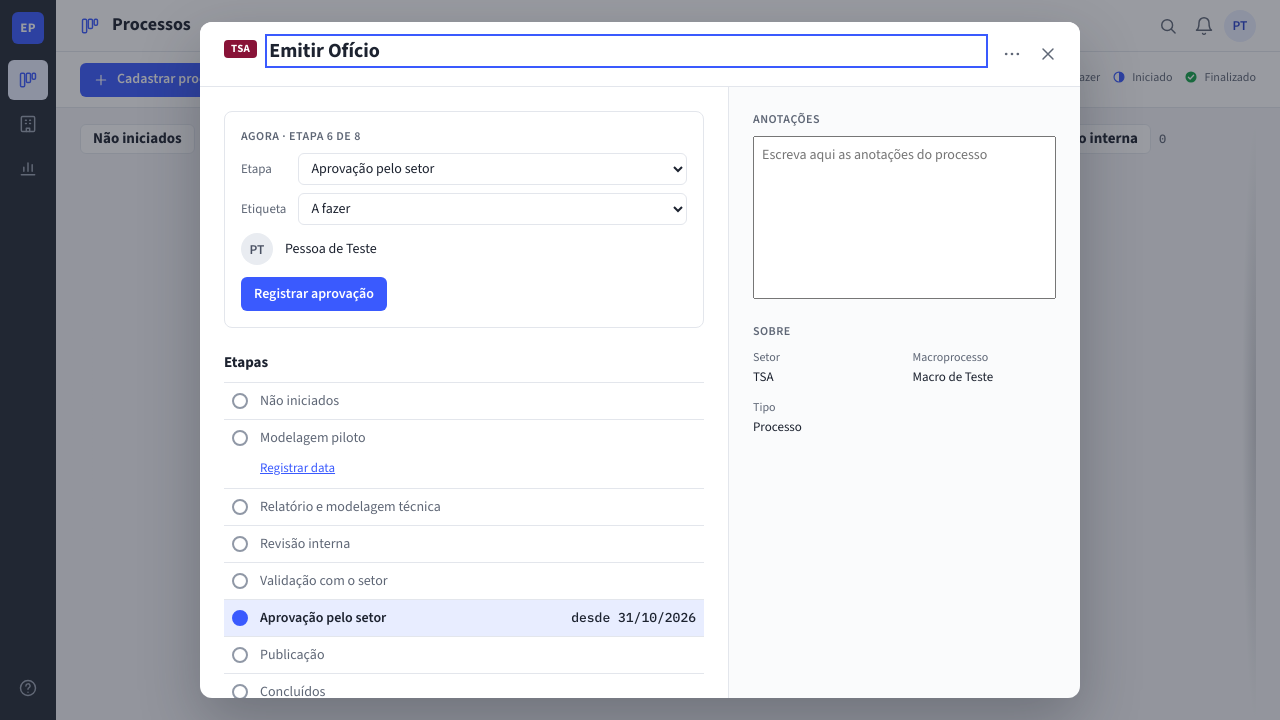
Test: as recusas do link e da data no futuro mostram a frase, mantendo o preenchido
The image size is (1280, 720).
Click the button "Registrar aprovação" at [314, 294], box [241,277,387,311]
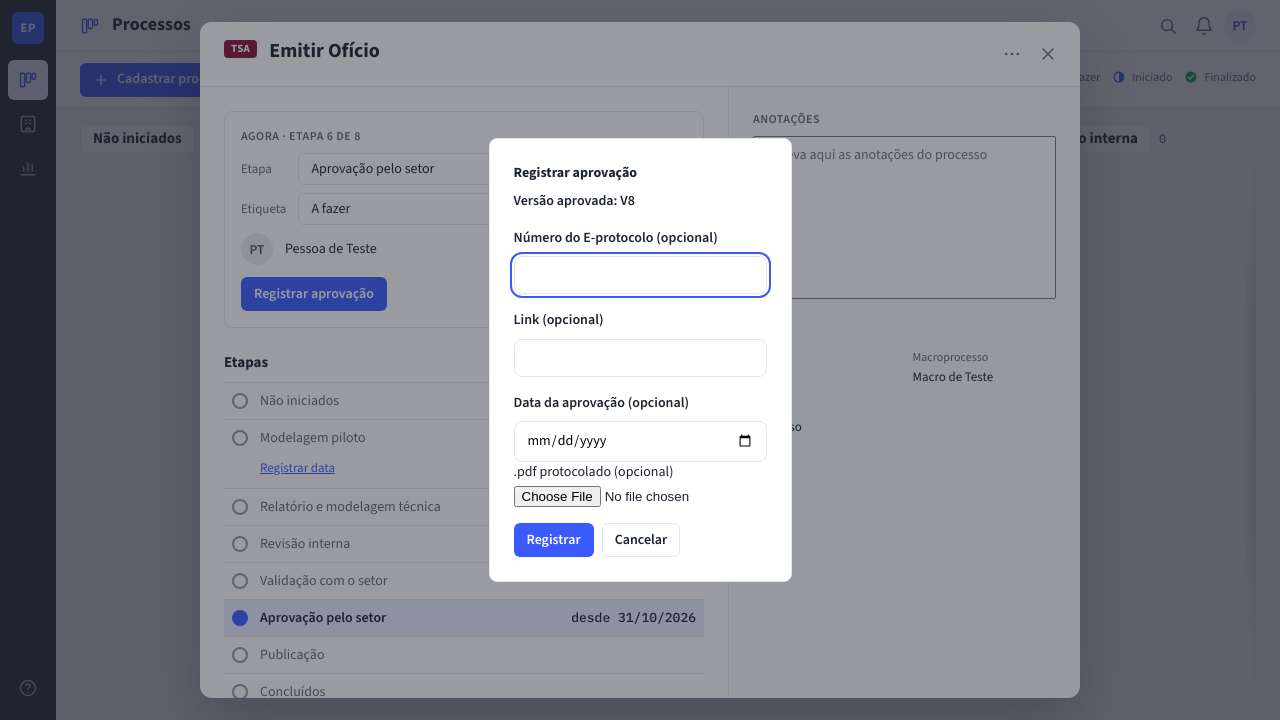
Type "PROT-3" into the field labelled "Número do E-protocolo (opcional)" at [640, 275], box [514,256,766,294]
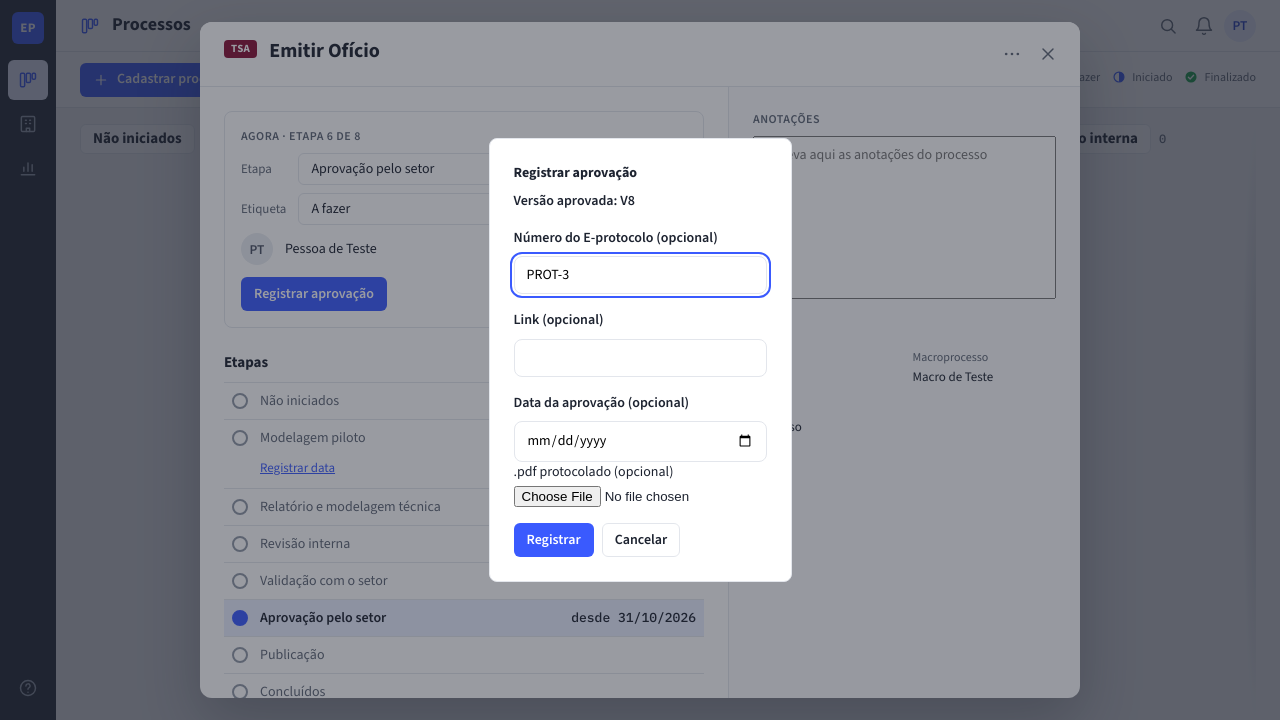
Type "ftp://x.example/a" into the field labelled "Link (opcional)" at [640, 358], box [514,339,766,377]
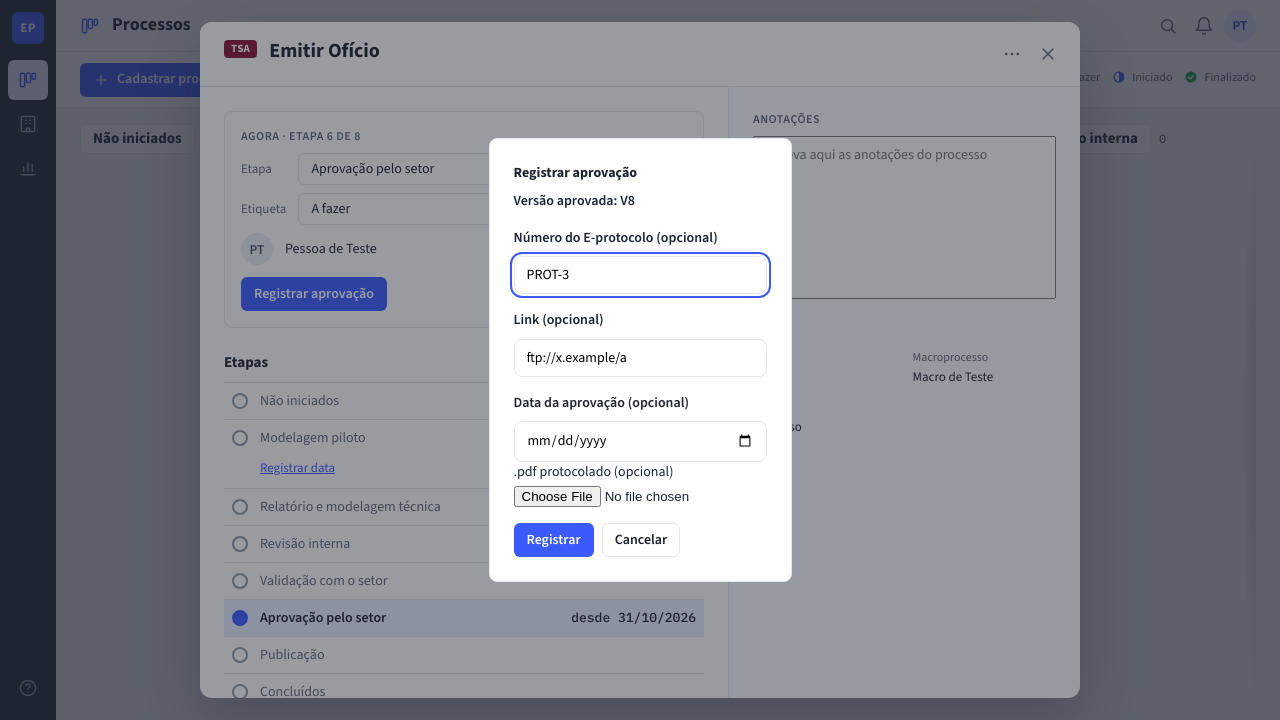
Click the button "Registrar" at [554, 540], box [514,523,594,557]
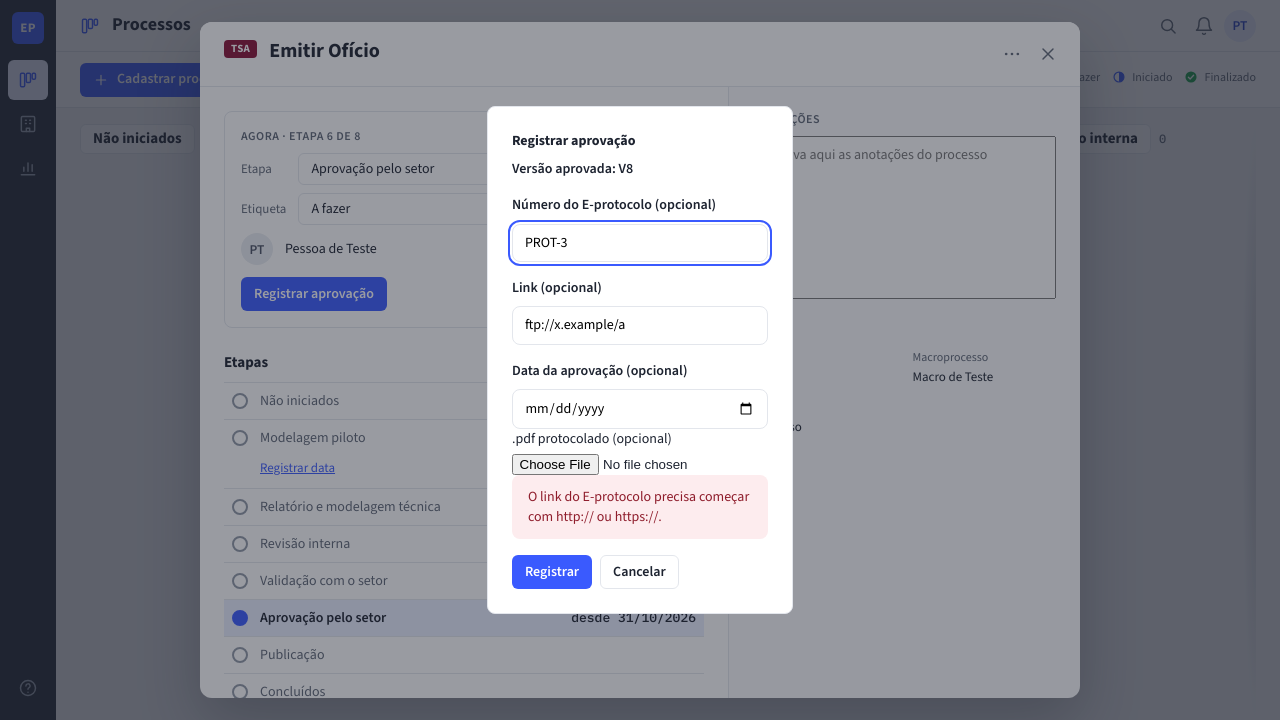
expect the message reads "O link do E-protocolo precisa começar com http:// ou https://.": met, box [528,486,749,527]
Replace the text in the field labelled "Link (opcional)" with "https://eprotocolo.example/c" at [640, 325], box [512,306,768,345]
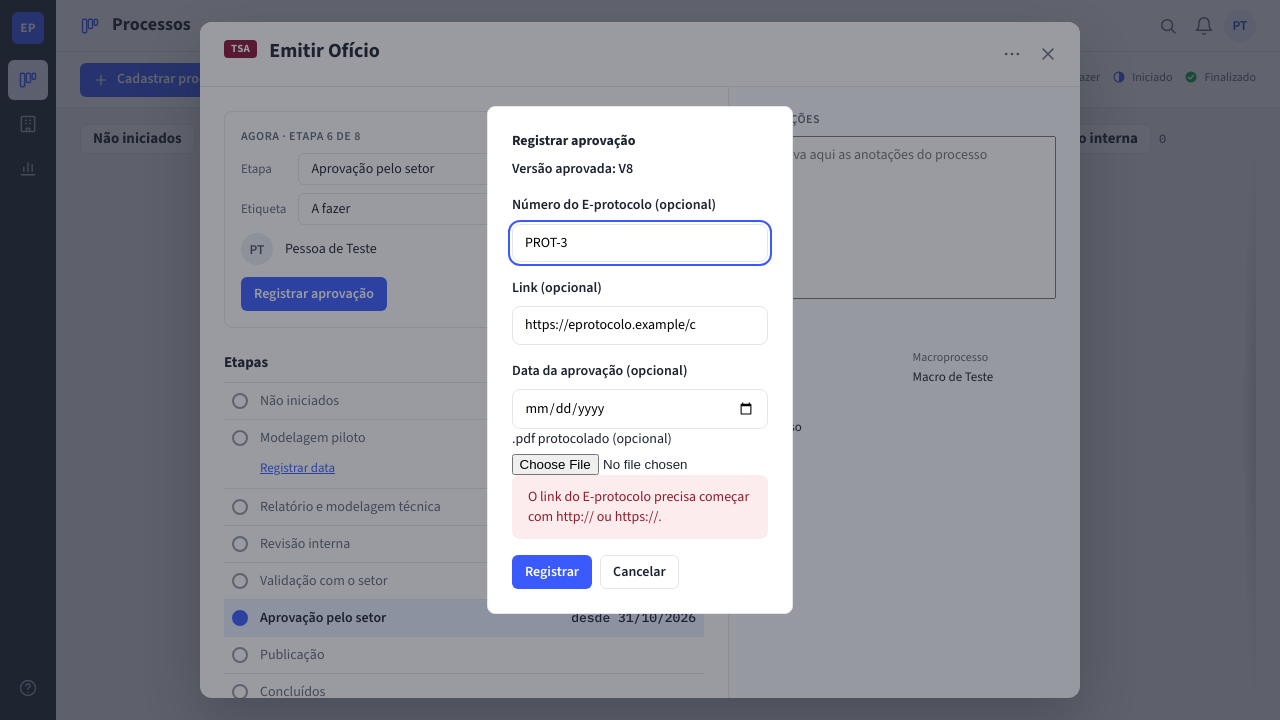
Click the button "Registrar" at [552, 572], box [512,555,592,589]
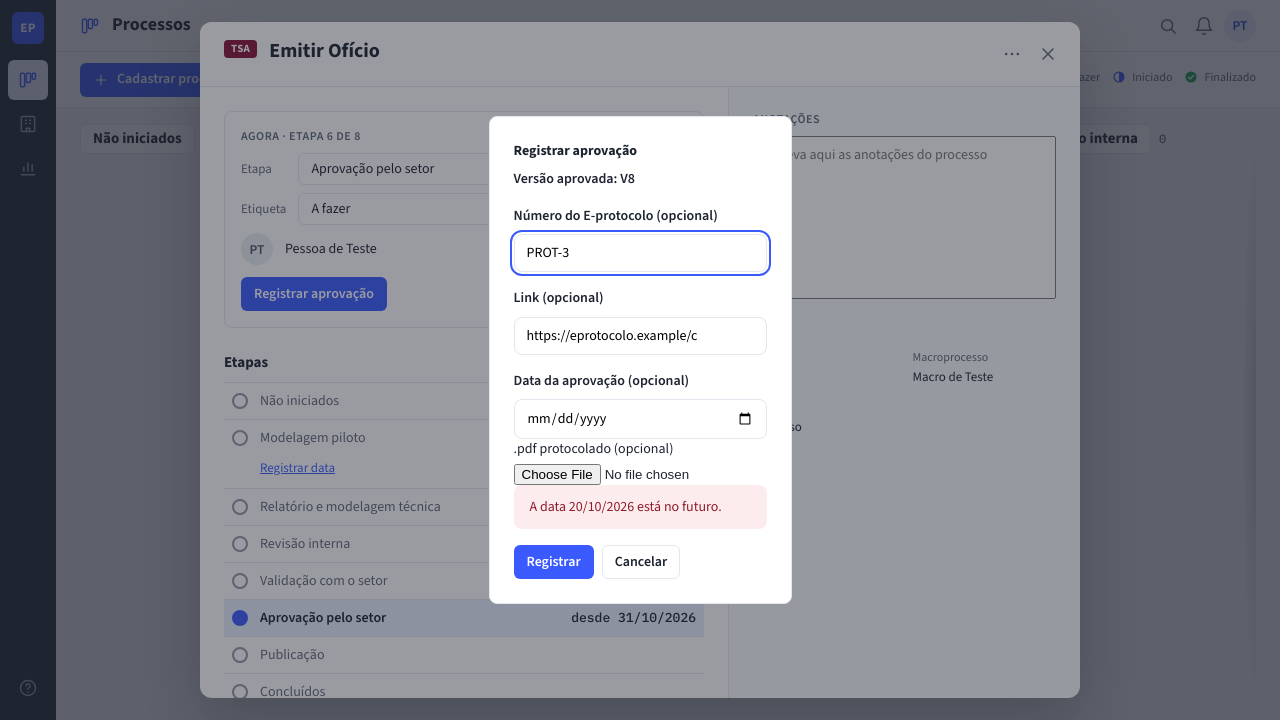
expect the message reads "A data 20/10/2026 está no futuro.": met, box [530,497,722,517]
